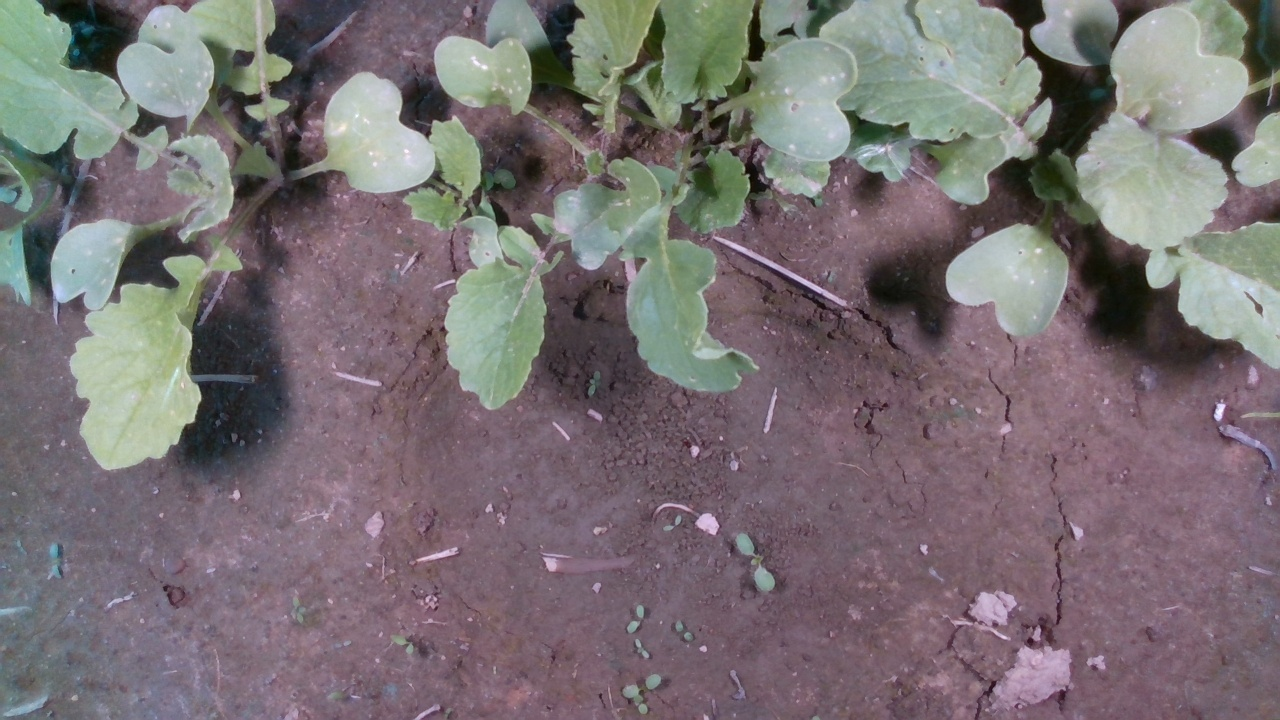weed: (734, 532, 775, 593), (48, 540, 63, 580), (625, 603, 643, 634), (389, 633, 414, 655), (289, 594, 305, 625), (673, 620, 694, 642), (587, 367, 601, 398), (662, 514, 682, 531), (635, 638, 650, 660)
